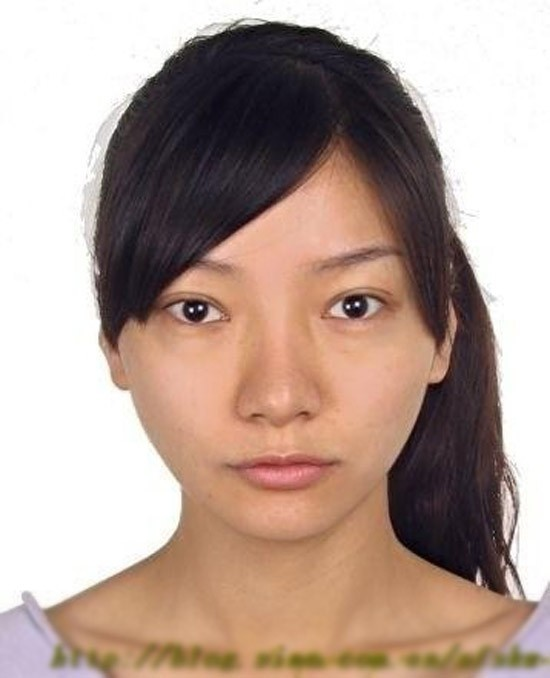unmask: (126, 231, 431, 519)
